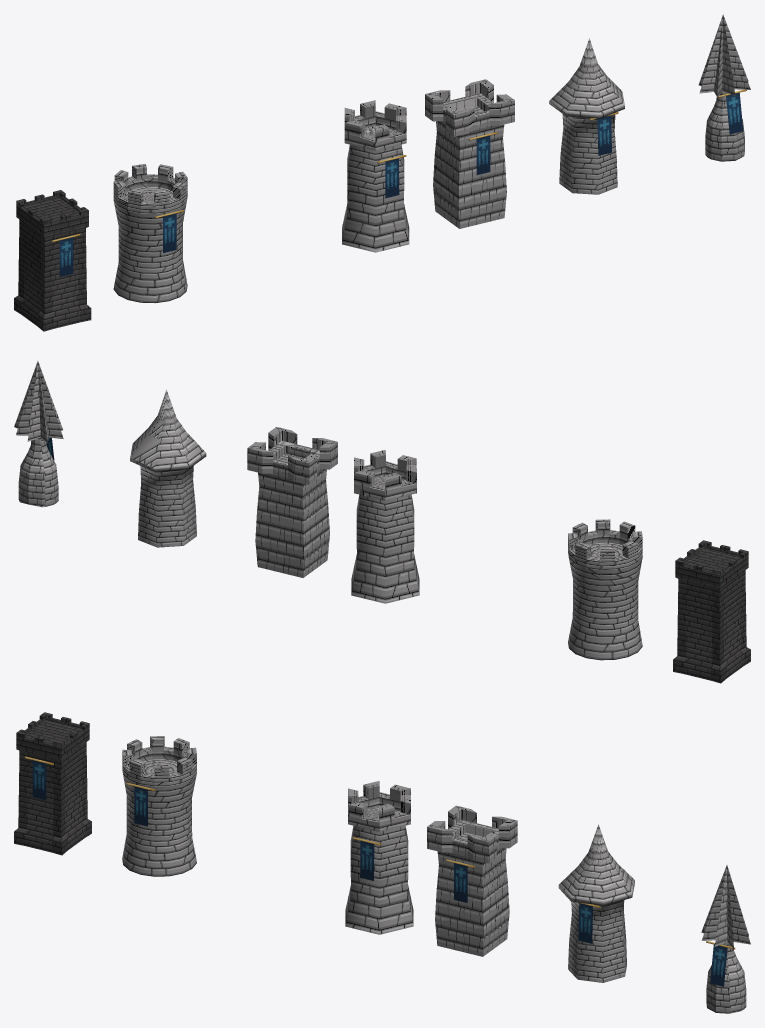
Rendered from WarriorTower.FBX.
3 renders of one model, top to bottom at view 1: azimuth 30°, elevation 25°; view 2: azimuth 150°, elevation 25°; view 3: azimuth 330°, elevation 25°, orthographic.
Visible parts, largest first — view 1: Economy, Warrior, Box001, Velocity, Wizard, Archer, Cylinder006, Cylinder001, Cylinder004, Cylinder003, Cylinder002, Cylinder005; view 2: Economy, Warrior, Box001, Velocity, Wizard, Archer; view 3: Economy, Warrior, Box001, Velocity, Wizard, Archer, Cylinder006, Cylinder001, Cylinder003, Cylinder005, Cylinder002, Cylinder004.
Boxes of the visible parts, x1,y1,x2,y2 form: Economy: (425,79,514,228); Warrior: (113,164,187,303); Box001: (14,190,91,331); Velocity: (342,100,409,252); Wizard: (549,38,624,194); Archer: (698,14,750,161); Cylinder006: (718,89,746,134); Cylinder001: (51,234,80,276); Cylinder004: (468,132,497,174); Cylinder003: (377,155,406,198); Cylinder002: (155,210,183,252); Cylinder005: (589,112,618,155); Economy: (247,427,337,577); Warrior: (568,519,642,660); Box001: (673,540,750,683); Velocity: (351,450,419,603); Wizard: (130,389,206,547); Archer: (14,361,63,507); Economy: (427,805,517,956); Warrior: (122,736,196,876); Box001: (14,712,91,855); Velocity: (345,781,413,934); Wizard: (558,824,634,982); Archer: (701,865,750,1013); Cylinder006: (706,941,735,986); Cylinder001: (24,756,53,799); Cylinder003: (352,837,381,880); Cylinder005: (577,902,600,943); Cylinder002: (126,782,155,826); Cylinder004: (446,859,475,902).
Size of the model in its own units: 4107 by 794 by 393.
3 materials, 3 textured.
